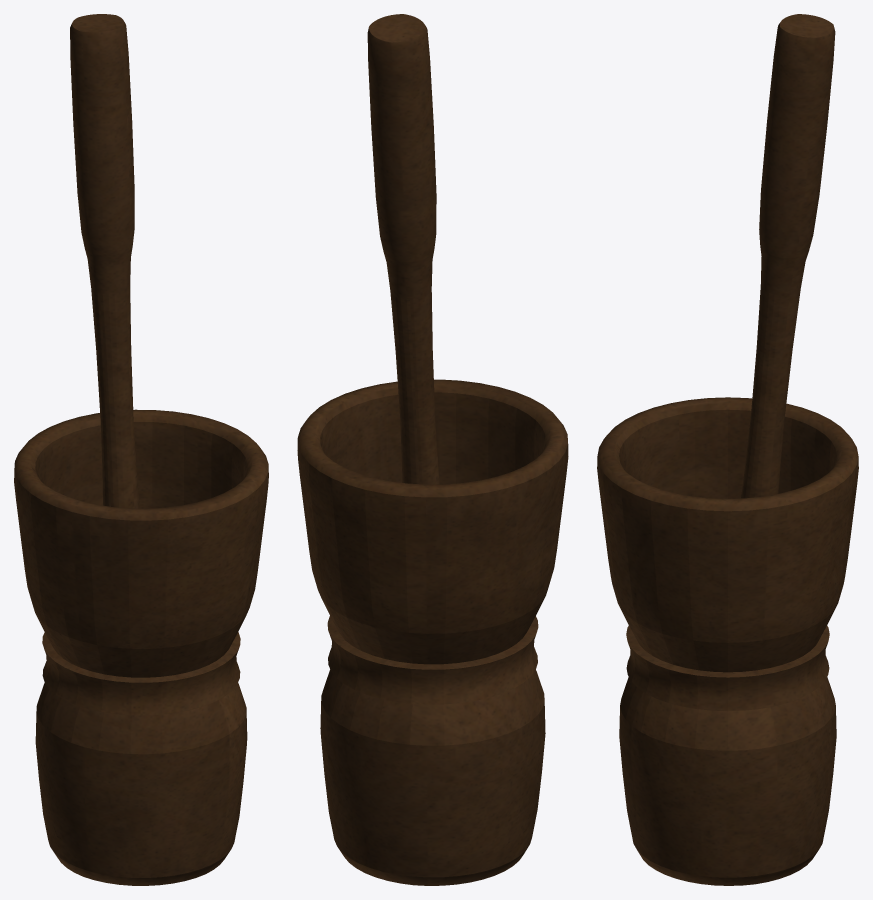
The model's file is Luhong.glb.
The picture shows the model from 3 angles, left to right: view 1: azimuth 30°, elevation 25°; view 2: azimuth 150°, elevation 25°; view 3: azimuth 270°, elevation 25°; orthographic projection. The views are drawn at different scales.
Visible parts, largest first — view 1: Luhong; view 2: Luhong; view 3: Luhong.
Part boxes in pixels (x1=…): Luhong: x1=14, y1=14, x2=268, y2=885; Luhong: x1=297, y1=14, x2=568, y2=885; Luhong: x1=597, y1=14, x2=858, y2=885.
Bounding box in the file's own units: 1.12 × 3.89 × 1.12.
Materials: 1 (1 with a texture image).
